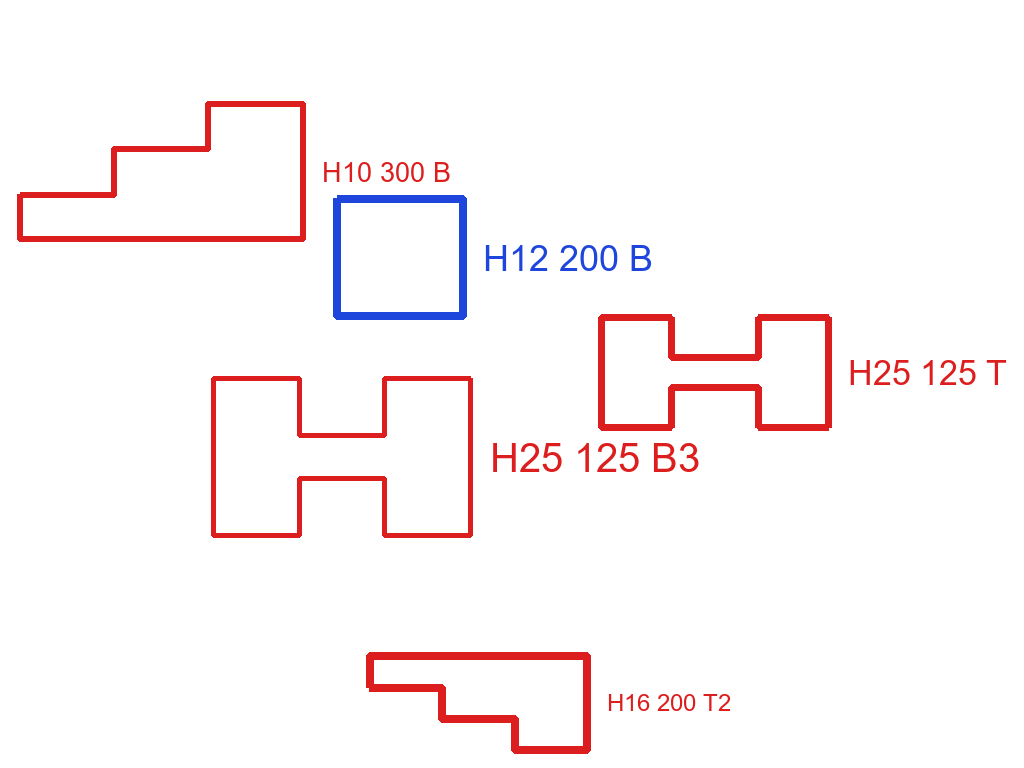shape: (209, 374, 475, 540), (16, 98, 307, 245), (596, 312, 834, 433), (363, 650, 593, 755), (331, 193, 469, 323)
text: (488, 441, 702, 474), (481, 243, 655, 273), (846, 358, 1009, 387), (320, 160, 453, 184), (605, 692, 733, 713)
